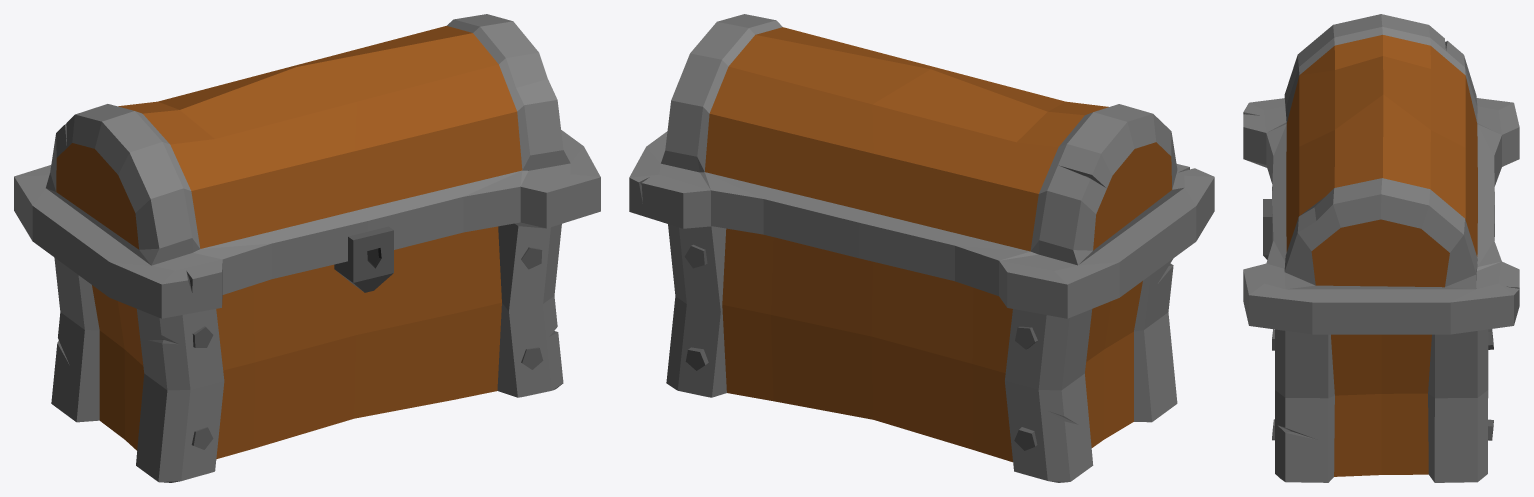
File: Chest.fbx
3 renders of one model, left to right at view 1: azimuth 30°, elevation 25°; view 2: azimuth 150°, elevation 25°; view 3: azimuth 270°, elevation 25°, orthographic. The views are drawn at different scales.
Parts seen in each view (by area): view 1: Chest; view 2: Chest; view 3: Chest.
Boxes of the visible parts, bbox=[...] form: Chest: bbox=[14, 14, 600, 482]; Chest: bbox=[629, 14, 1214, 482]; Chest: bbox=[1243, 14, 1519, 482].
Size of the model in its own units: 97.87 by 65.23 by 54.97.
1 material, 1 textured.
